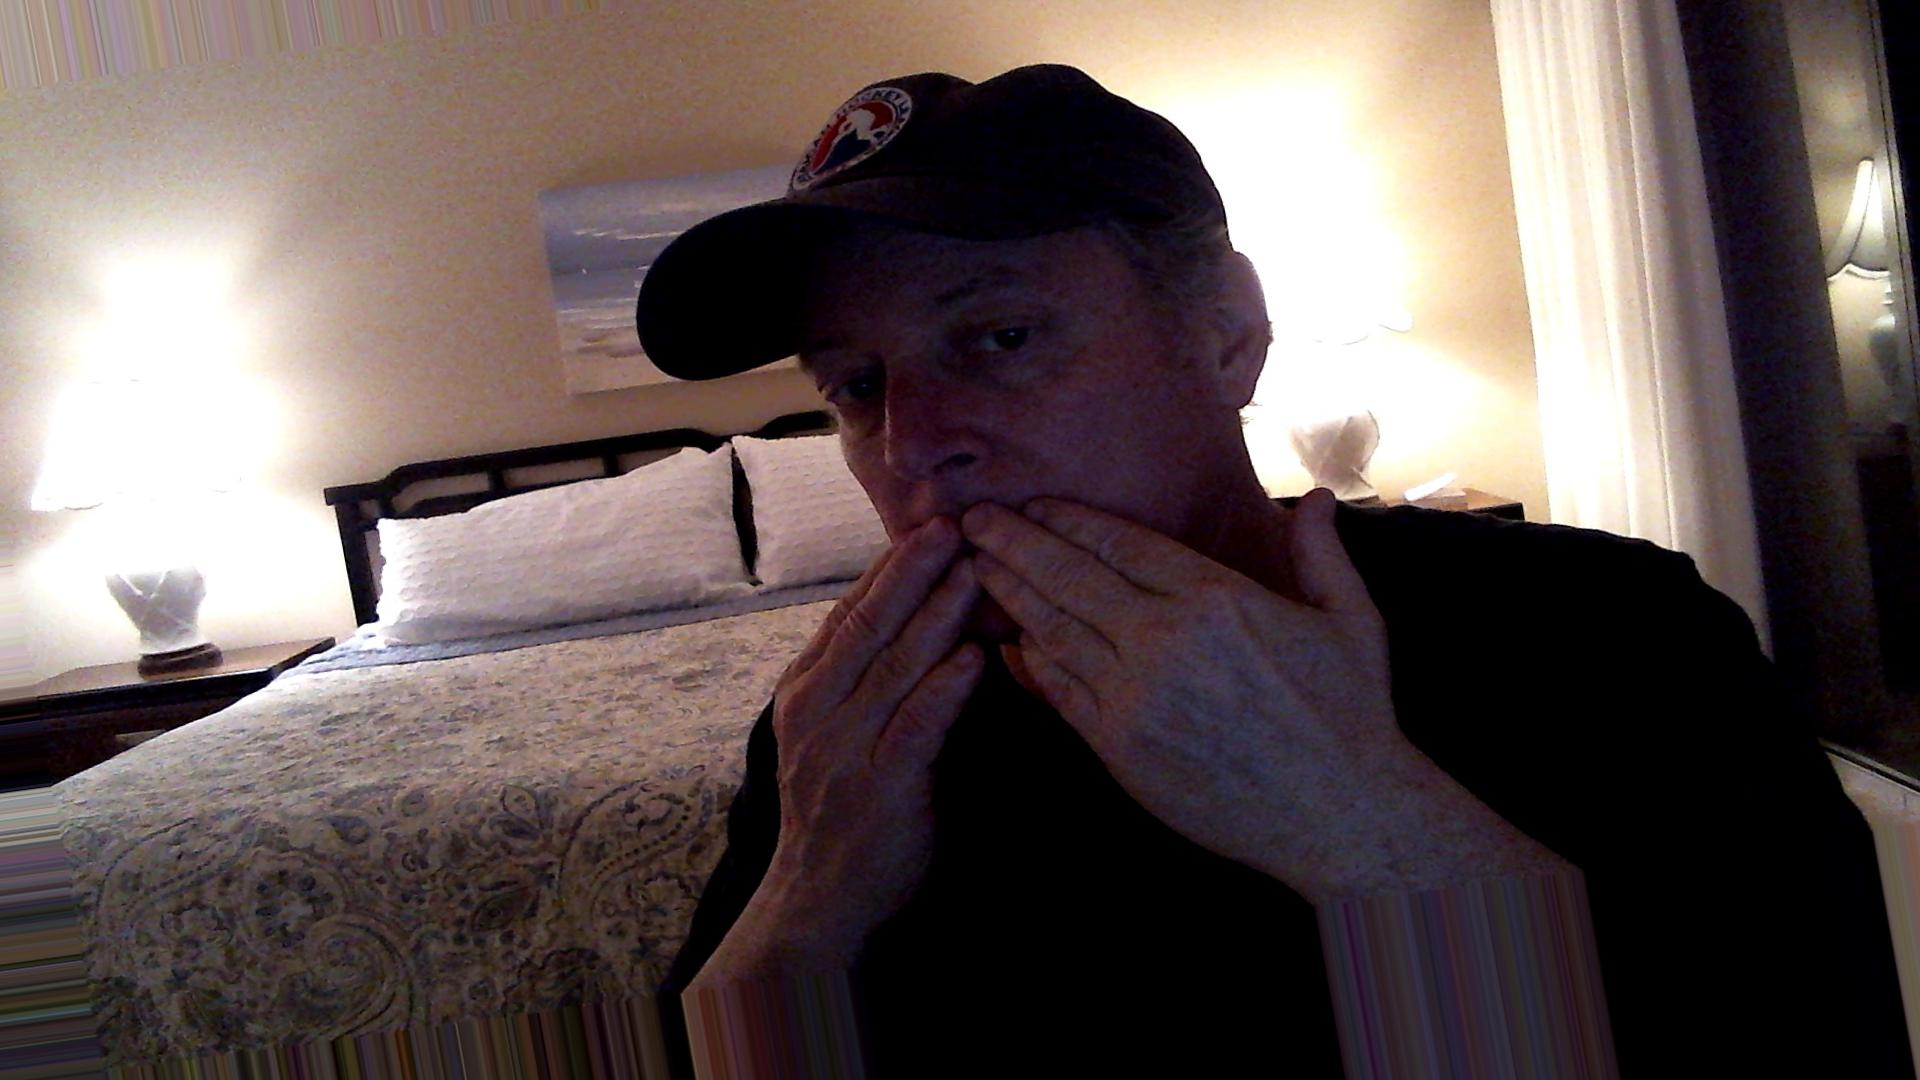Thank You: (757, 480, 1472, 856)
